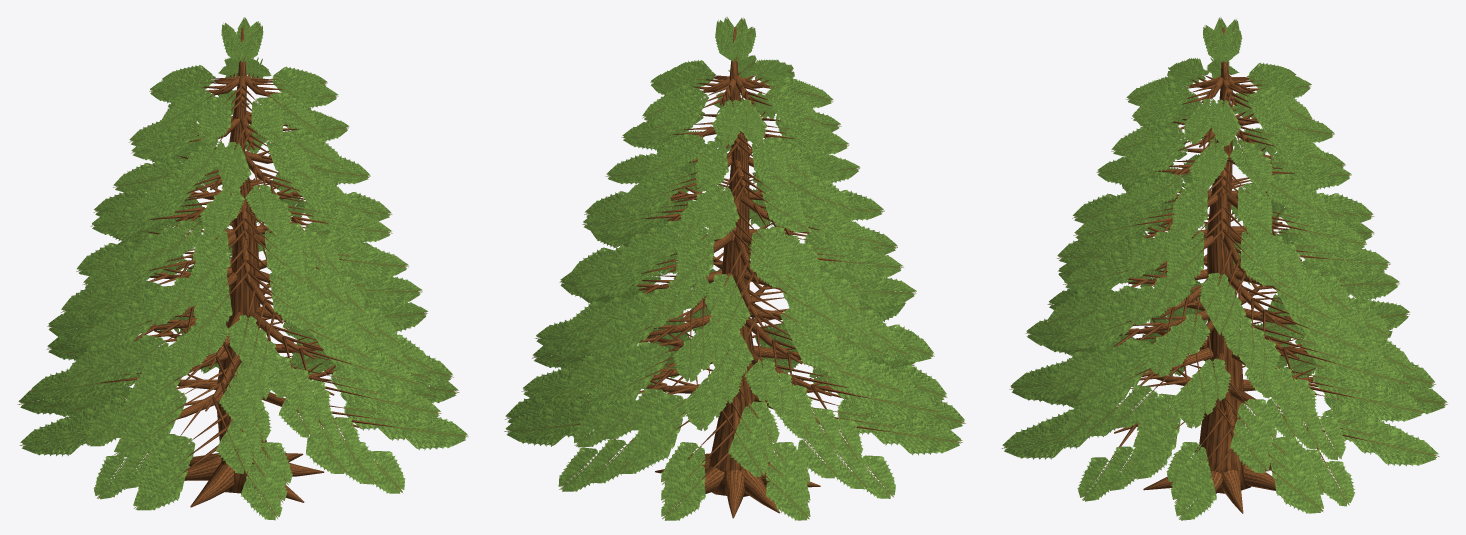
File: LayeredFir.fbx
3 renders of one model, left to right at view 1: azimuth 30°, elevation 25°; view 2: azimuth 150°, elevation 25°; view 3: azimuth 270°, elevation 25°, orthographic.
Visible parts, largest first — view 1: SM_LayeredFir_Foliage_LOD0, SM_LayeredFir_Bark_LOD0; view 2: SM_LayeredFir_Foliage_LOD0, SM_LayeredFir_Bark_LOD0; view 3: SM_LayeredFir_Foliage_LOD0, SM_LayeredFir_Bark_LOD0.
Part boxes in pixels (x1,y1,x2,y2): SM_LayeredFir_Foliage_LOD0: (17,17,468,520); SM_LayeredFir_Bark_LOD0: (100,27,396,507); SM_LayeredFir_Foliage_LOD0: (504,17,965,520); SM_LayeredFir_Bark_LOD0: (576,27,889,518); SM_LayeredFir_Foliage_LOD0: (1001,17,1447,520); SM_LayeredFir_Bark_LOD0: (1111,27,1366,513).
Size of what is drawn, in the model's own units: 7.81 by 8.76 by 7.87.
2 materials, 2 textured.
